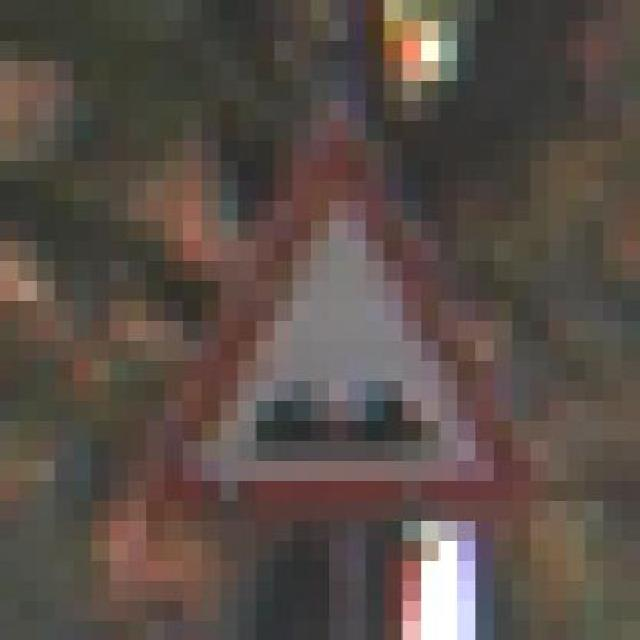Uneven Road: (146, 100, 549, 540)
